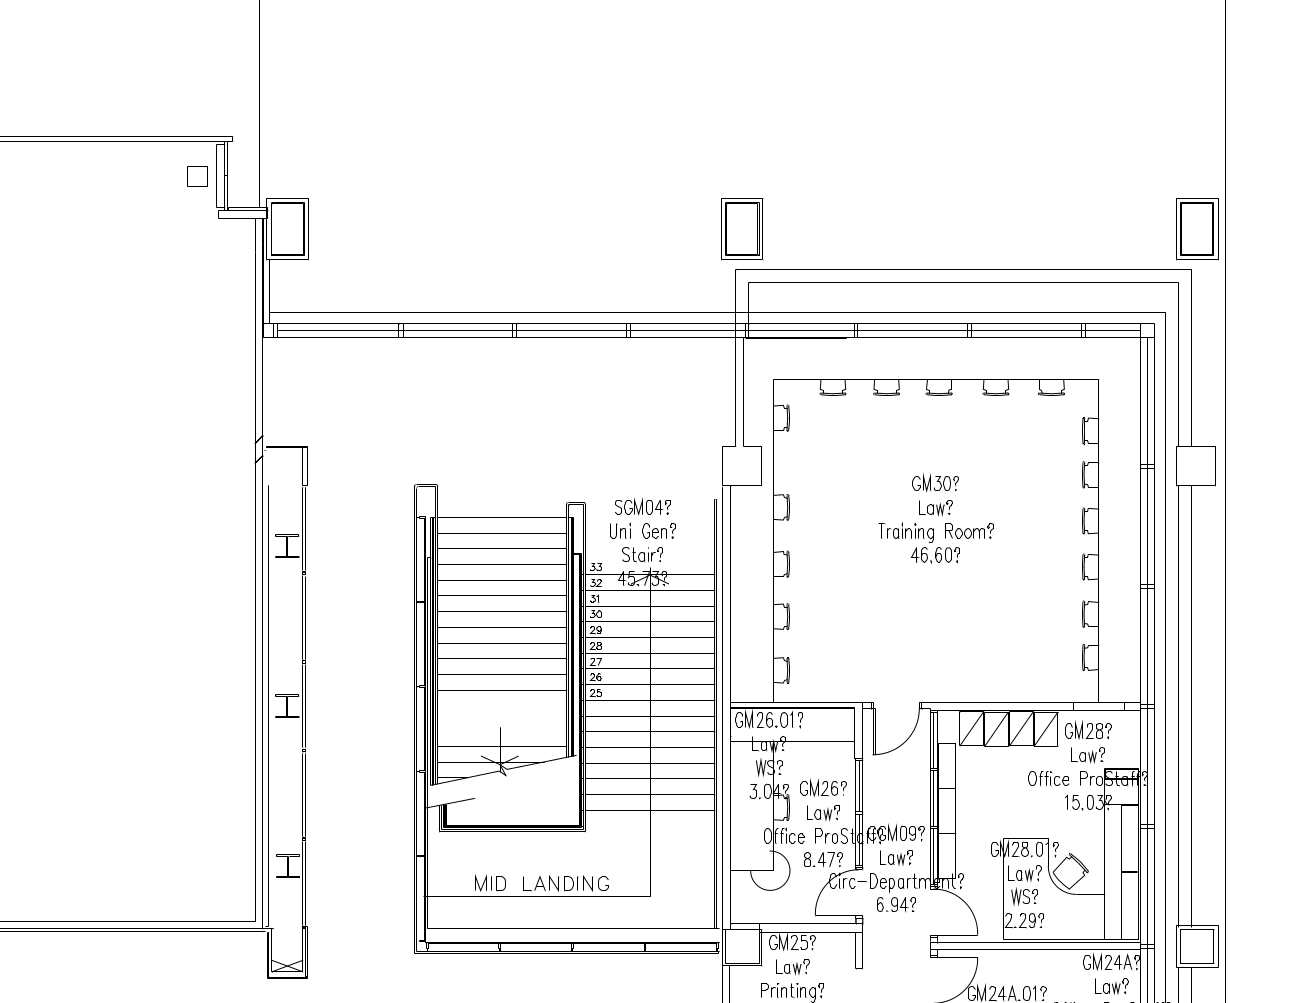door: (868, 700, 926, 760), (802, 858, 860, 918), (926, 881, 984, 941), (927, 952, 981, 1003)
